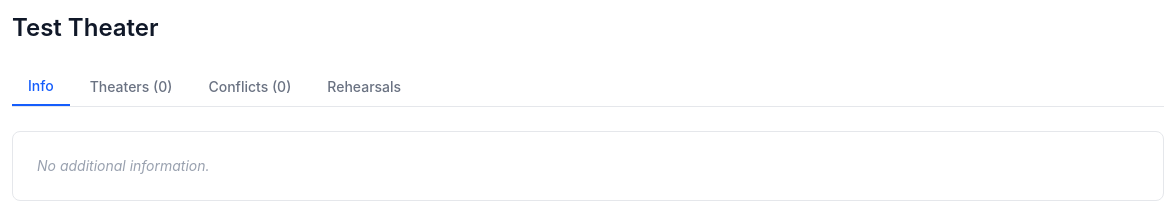
it: SpaceDetail — Rehearsals tab content › shows an empty-state message when there are no upcoming rehearsals
Click the button "Rehearsals".
click(364, 87)  # box x1=311 y1=68 x2=417 y2=106
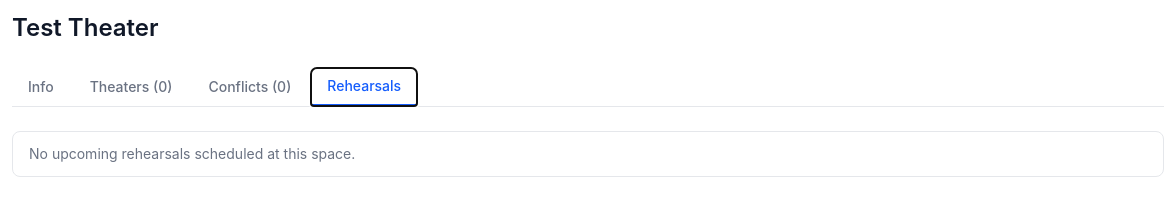
Result: the text "No upcoming rehearsals scheduled at this space." is shown at x1=29 y1=145 x2=355 y2=162
